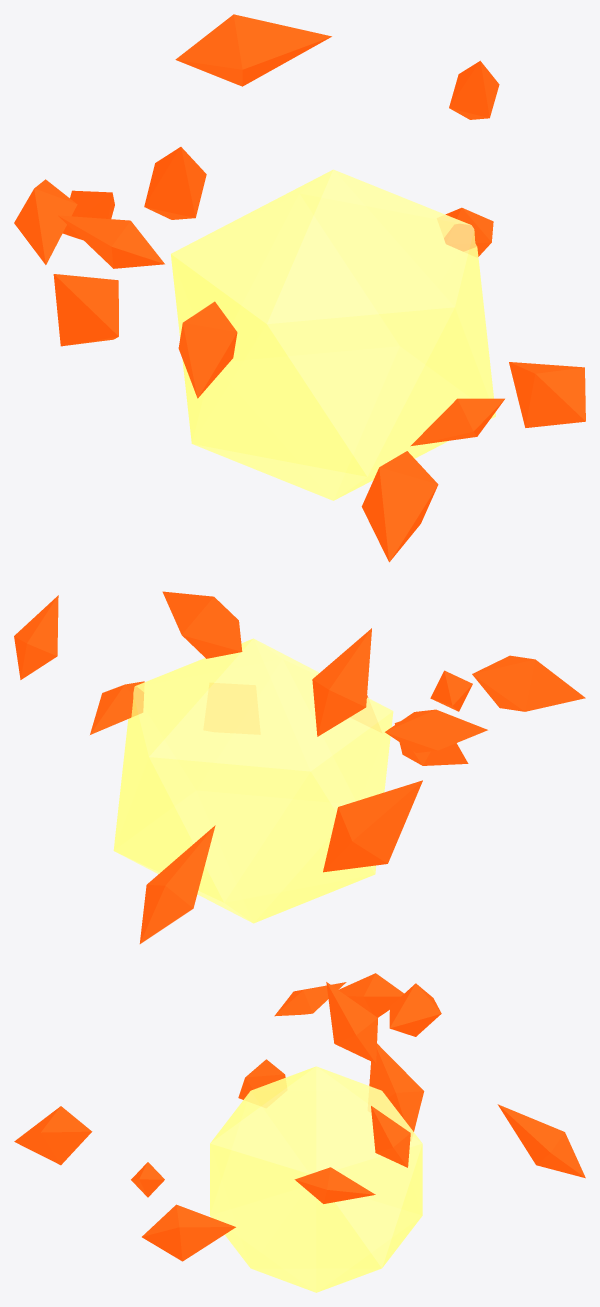
Rendered from fx_death_x.glb.
The picture shows the model from 3 angles, top to bottom: view 1: azimuth 30°, elevation 25°; view 2: azimuth 150°, elevation 25°; view 3: azimuth 270°, elevation 25°; orthographic projection. The views are drawn at different scales.
Parts seen in each view (by area): view 1: fx_death_x; view 2: fx_death_x; view 3: fx_death_x.
Boxes of the visible parts, x1,y1,x2,y2 form: fx_death_x: (14, 14, 585, 562); fx_death_x: (14, 591, 585, 943); fx_death_x: (14, 973, 585, 1292).
Bounding box in the file's own units: 1.43 × 1.19 × 2.06.
